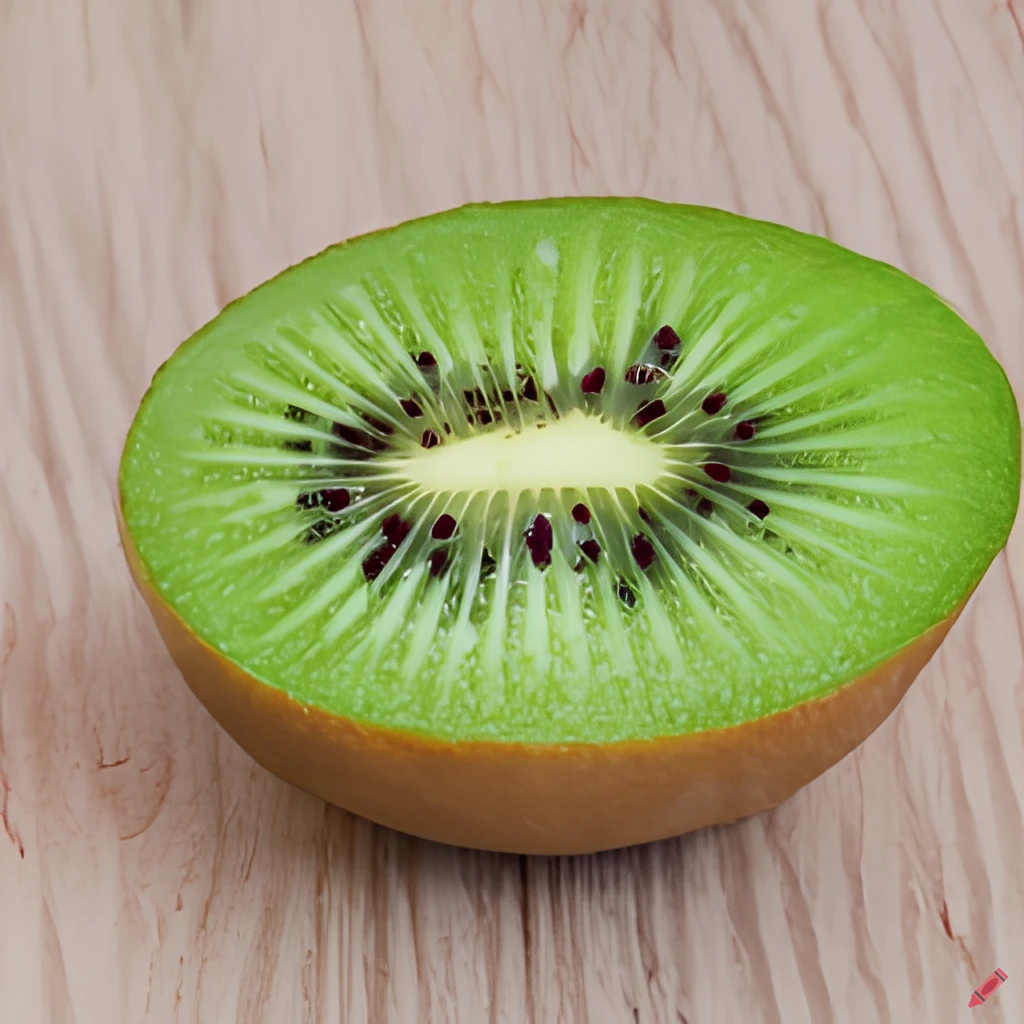Kiwi: (102, 192, 1020, 845)
